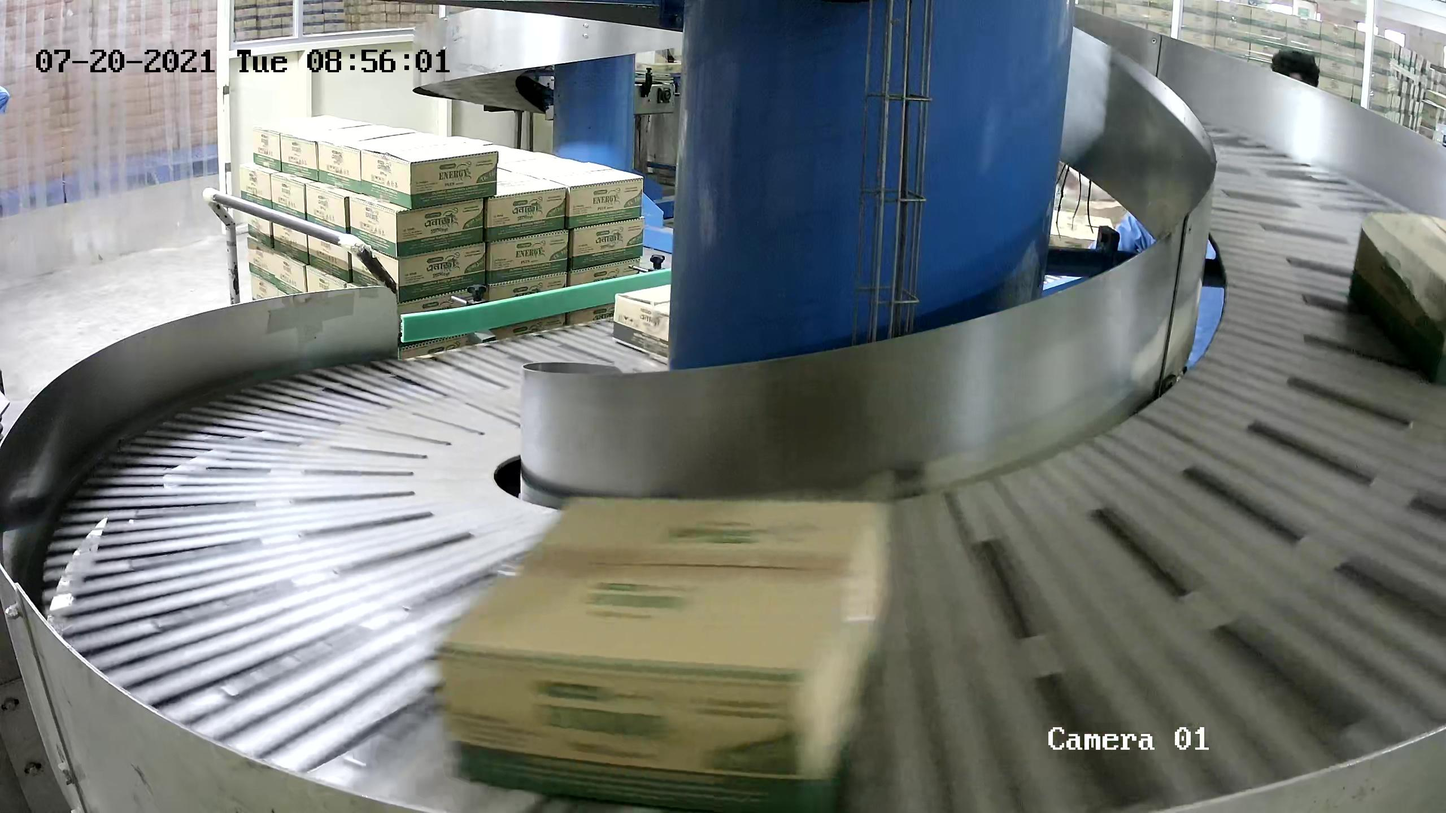Box: (435, 493, 893, 813), (1347, 210, 1446, 387), (611, 283, 671, 364)
